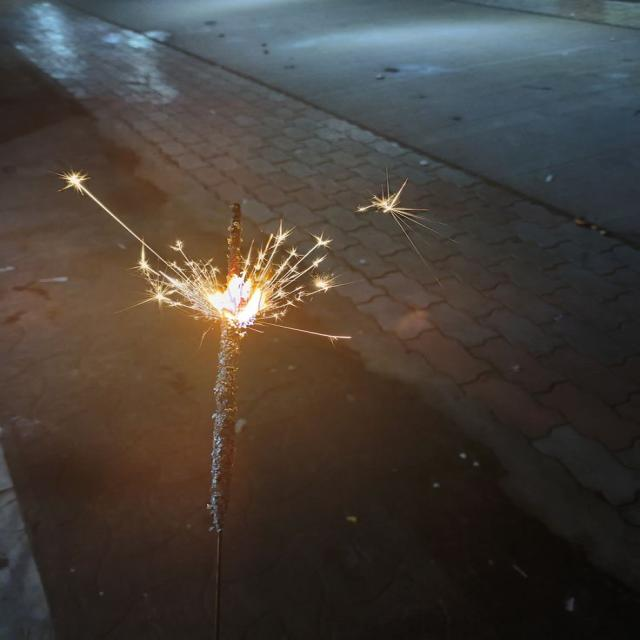fire: (208, 276, 269, 328)
